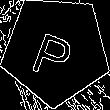P_N: (30, 20, 82, 80)
